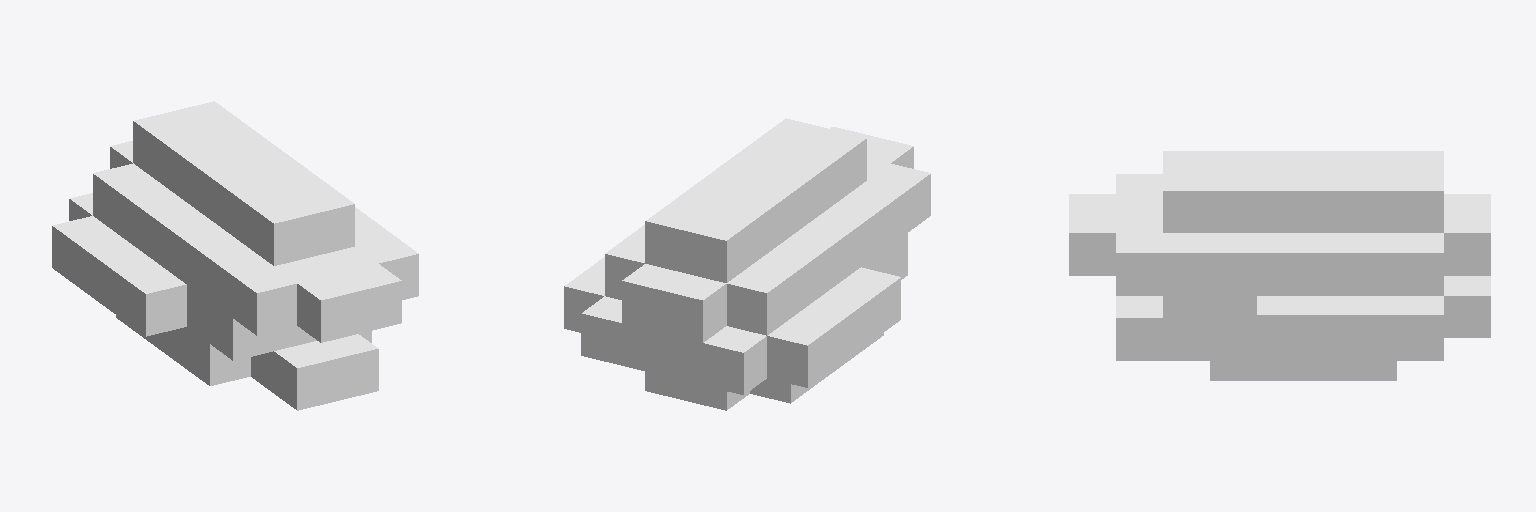
File: Robot_Head.obj
3 views of the same model, side by side, from view 1: azimuth 30°, elevation 25°; view 2: azimuth 150°, elevation 25°; view 3: azimuth 270°, elevation 25° (orthographic).
Size of the model in its own units: 6 by 4 by 9.